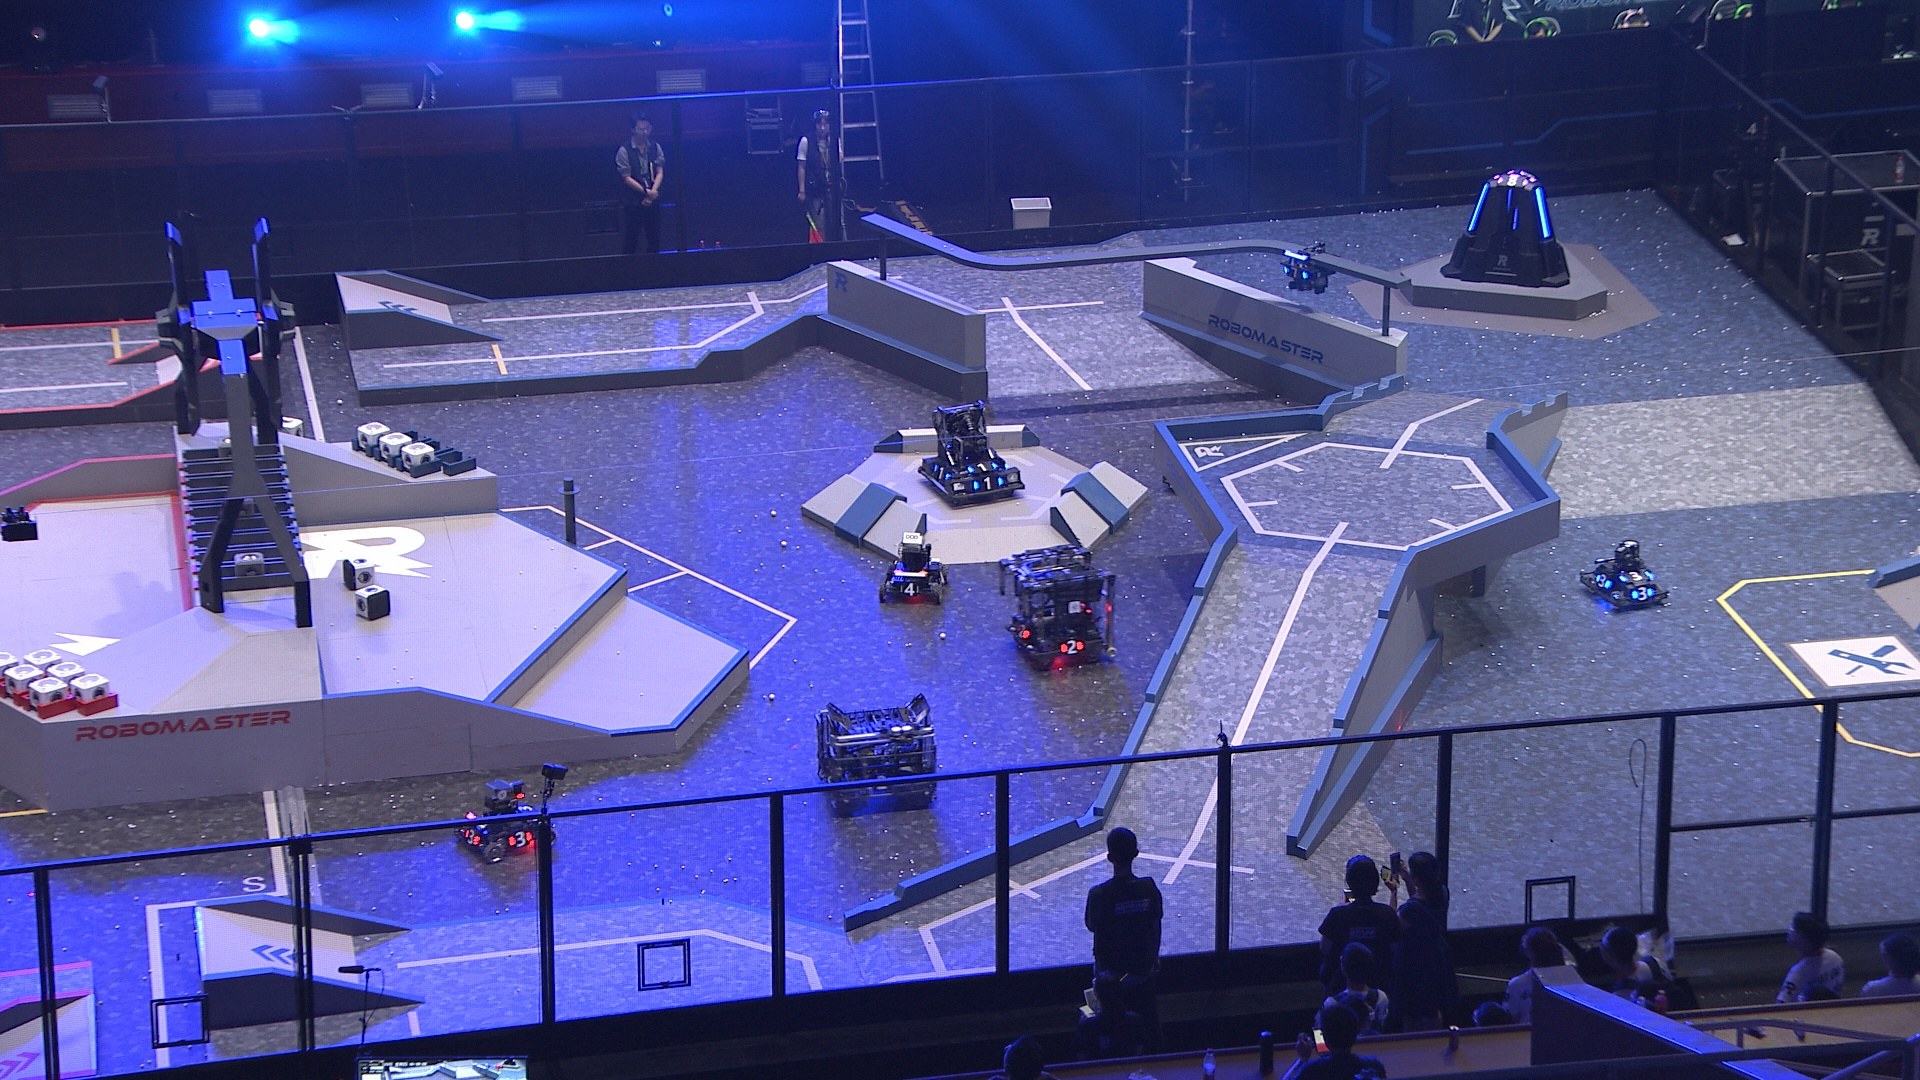armor: (1466, 183, 1490, 232), (1534, 189, 1555, 239), (505, 829, 533, 849), (1619, 568, 1654, 583), (1629, 585, 1656, 603), (1058, 640, 1087, 655), (972, 476, 1004, 491), (869, 774, 891, 793), (1280, 266, 1311, 280), (930, 465, 951, 484), (463, 829, 483, 847), (899, 583, 920, 599), (967, 462, 997, 472), (1596, 574, 1614, 589), (1015, 622, 1030, 642), (514, 802, 535, 814), (935, 570, 948, 585), (1513, 207, 1519, 229)
base: (1441, 167, 1572, 289)
car: (997, 541, 1120, 669), (814, 694, 942, 812), (916, 398, 1027, 505), (455, 777, 556, 870), (1580, 541, 1669, 613), (877, 534, 953, 605)
ignore: (1495, 174, 1532, 189)
watcher: (1276, 240, 1333, 294)
